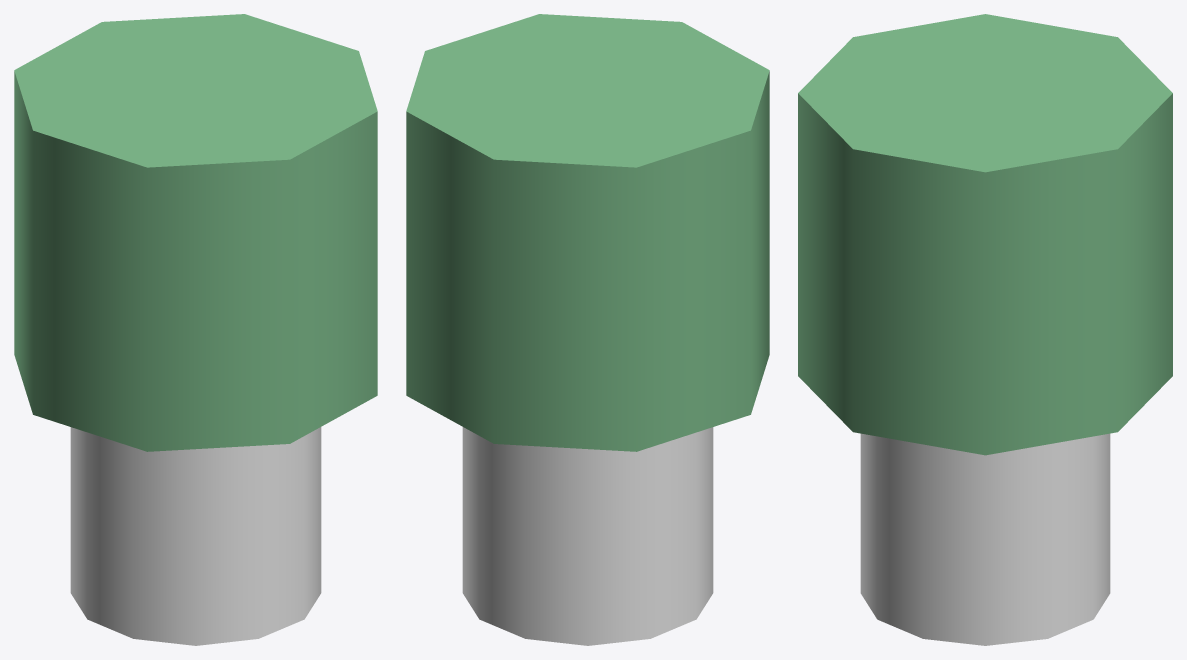
Rendered from planter.glb.
3 views of the same model, side by side, from view 1: azimuth 30°, elevation 25°; view 2: azimuth 150°, elevation 25°; view 3: azimuth 270°, elevation 25° (orthographic).
Parts seen in each view (by area): view 1: RootNode; view 2: RootNode; view 3: RootNode.
Boxes of the visible parts, x1,y1,x2,y2 form: RootNode: (14,14,377,645); RootNode: (406,14,769,645); RootNode: (798,14,1172,645).
Bounding box in the file's own units: 1.8 × 2.65 × 1.8.
